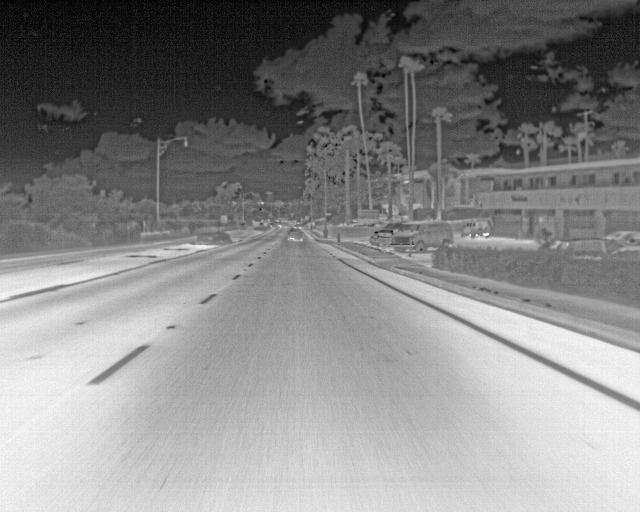car: (394, 218, 454, 253), (552, 236, 608, 260), (606, 226, 639, 247), (460, 218, 491, 239), (368, 228, 395, 247), (198, 232, 230, 245), (608, 245, 639, 258), (285, 227, 305, 242)
